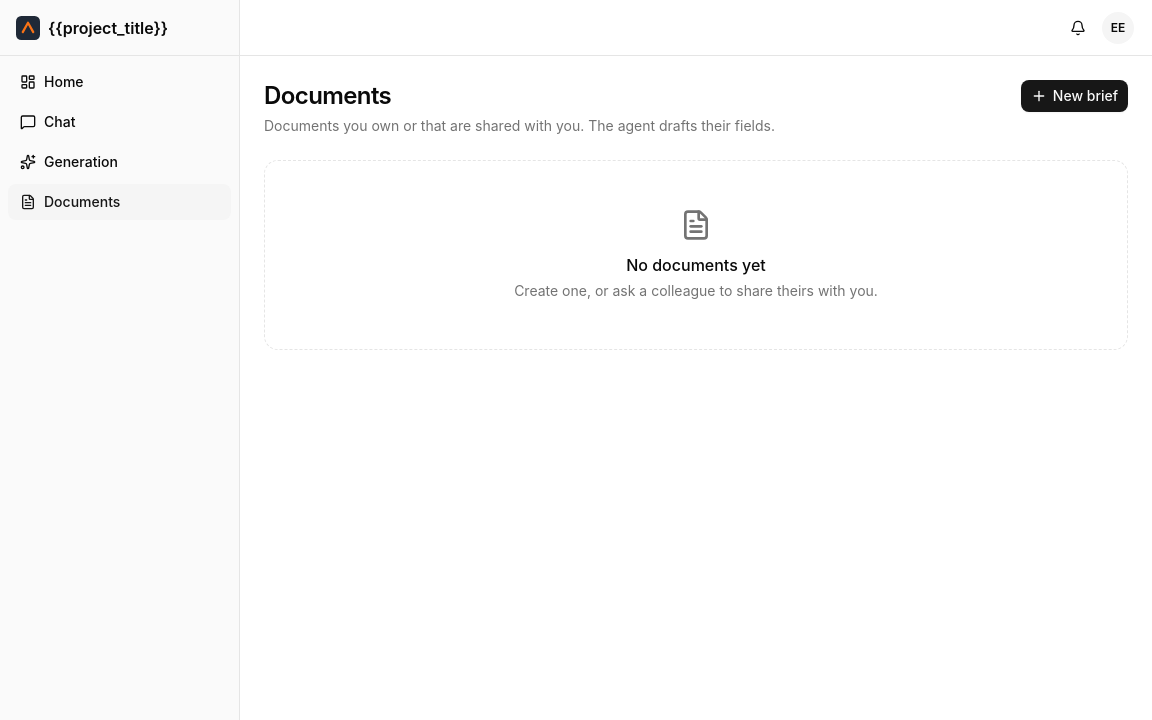
Test: documents page › lets editors create a document from the catalog's user fields
Click the button "New brief" at (1074, 96), box top-left (1021, 80), bottom-right (1128, 112)
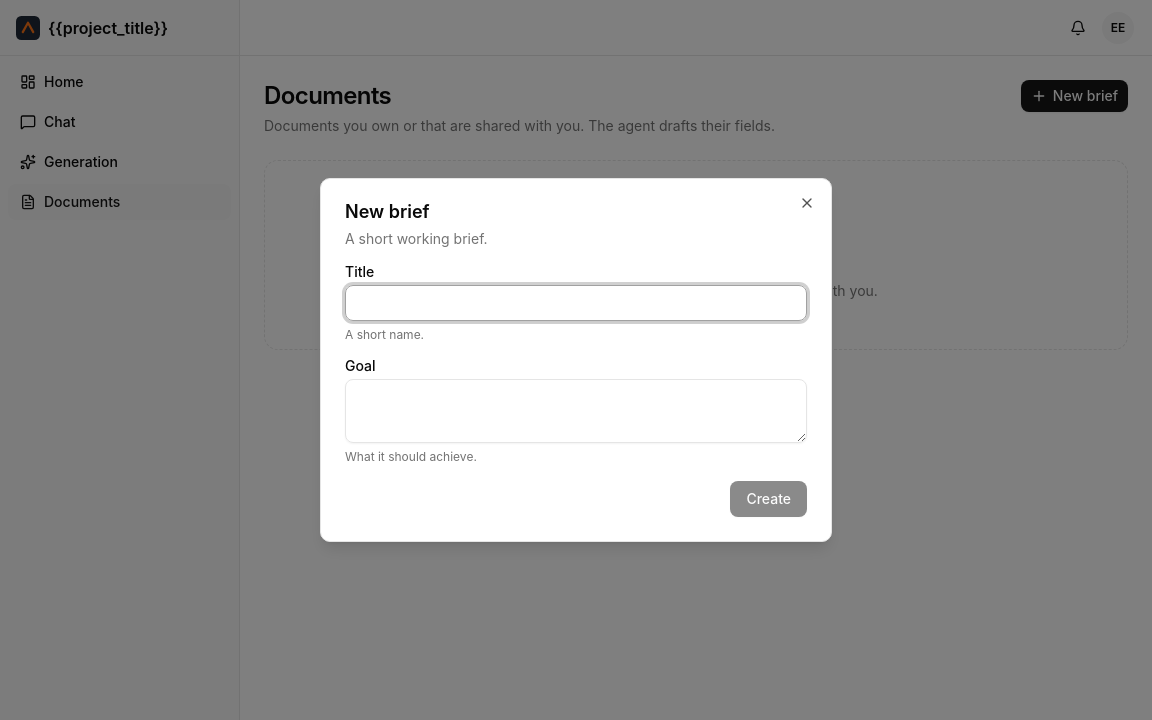
Expected: the field labelled "Summary" is not shown
Now the button "Create" is disabled, box top-left (730, 481), bottom-right (807, 517)
Type "Kick-off" into the field labelled "Title" at (576, 303), box top-left (345, 285), bottom-right (807, 321)
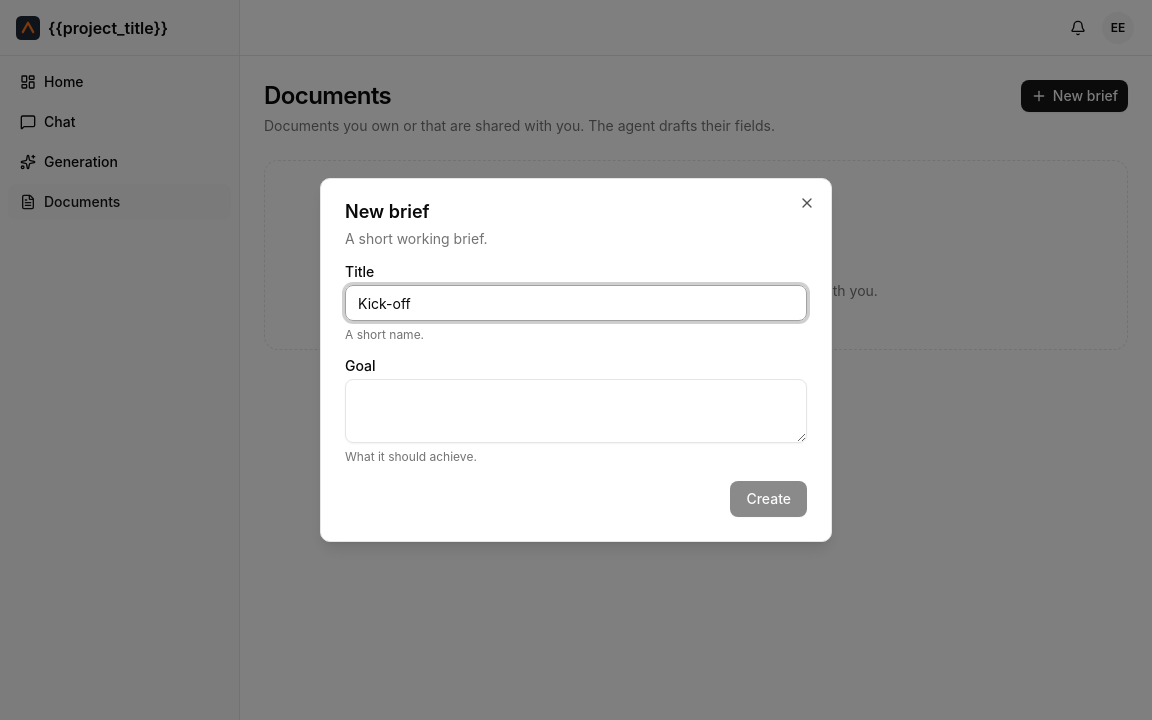
Type "Agree the plan" into the text box labelled "Goal" at (576, 411), box top-left (345, 379), bottom-right (807, 443)
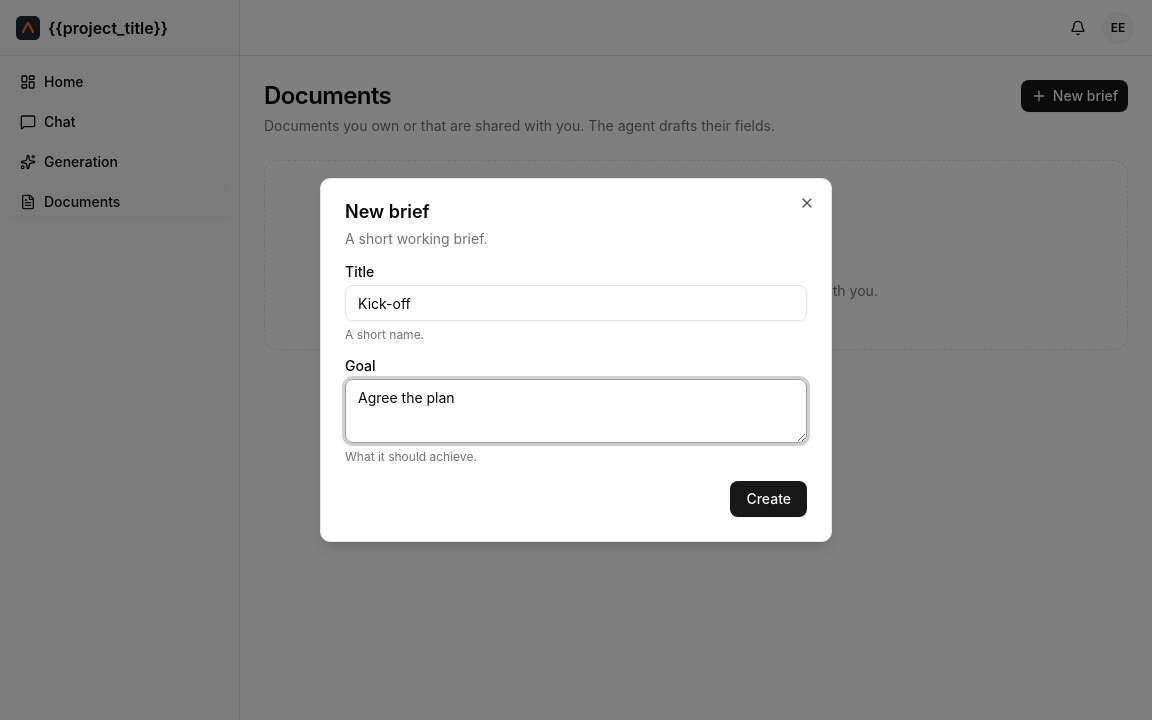
Click the button "Create" at (769, 499), box top-left (730, 481), bottom-right (807, 517)
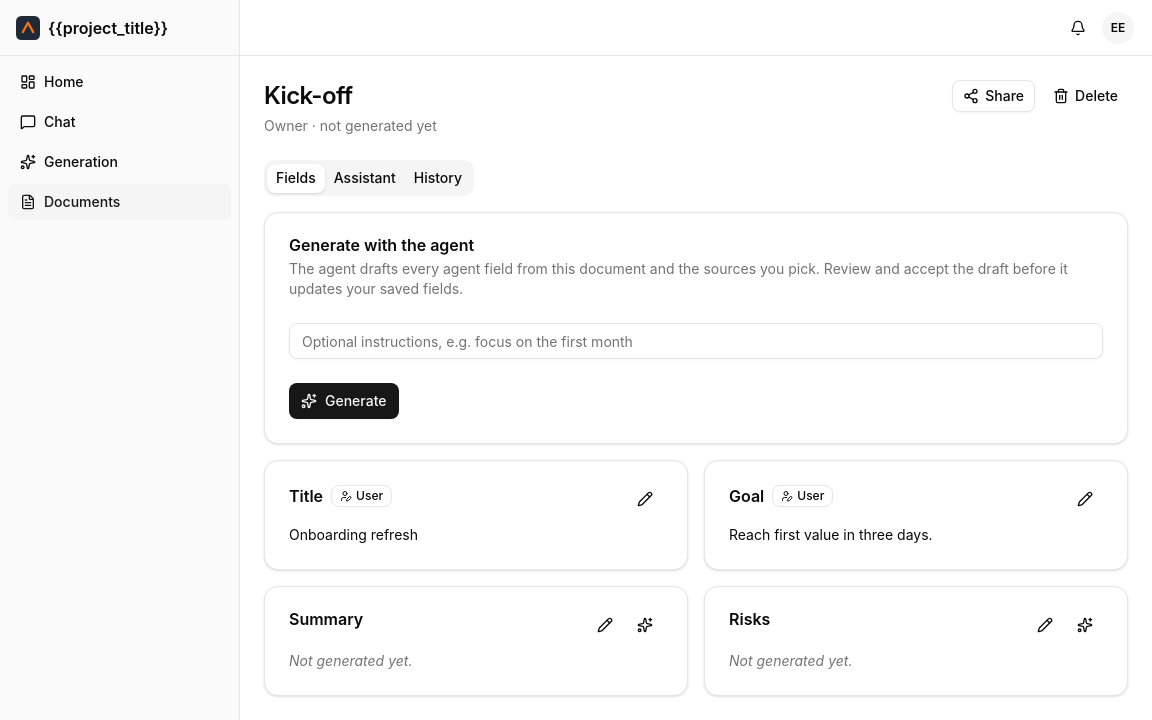
Now the heading "Kick-off" is shown, box top-left (264, 81), bottom-right (352, 110)
